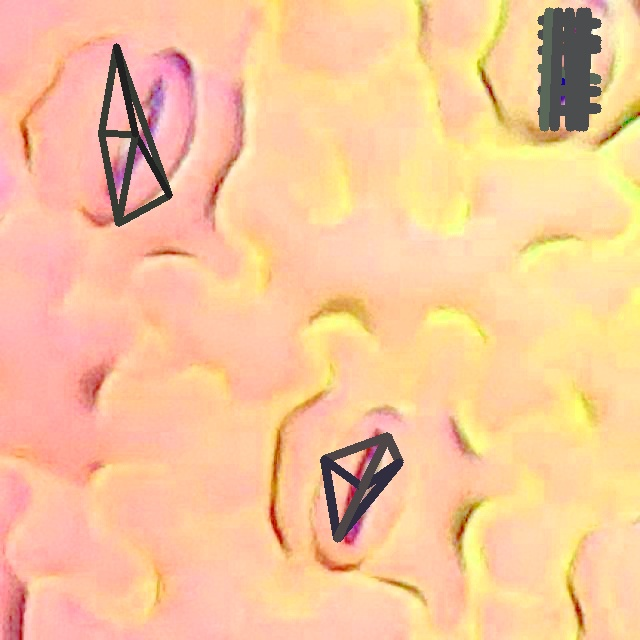open: (98, 43, 172, 226), (320, 432, 403, 542), (538, 8, 600, 130)
